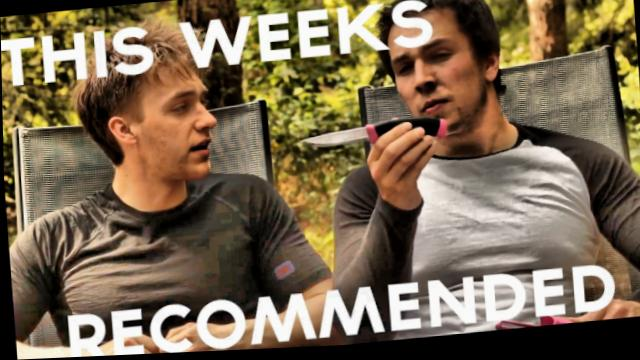knife: (284, 111, 456, 173)
